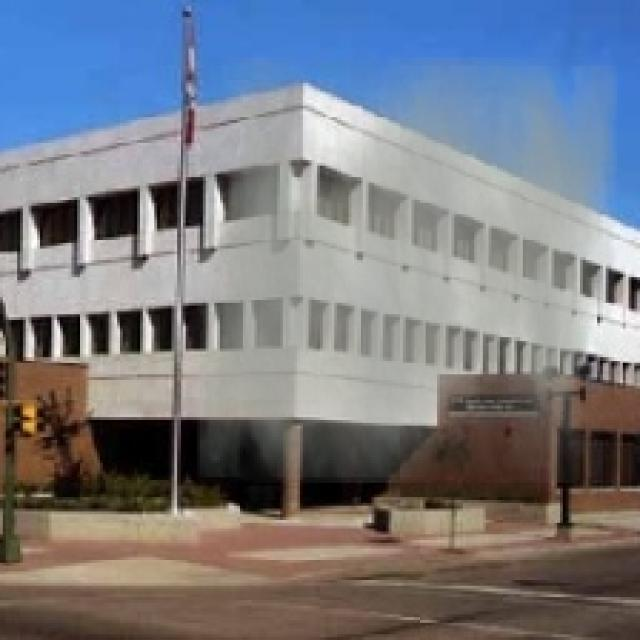smoke: (197, 57, 617, 483)
